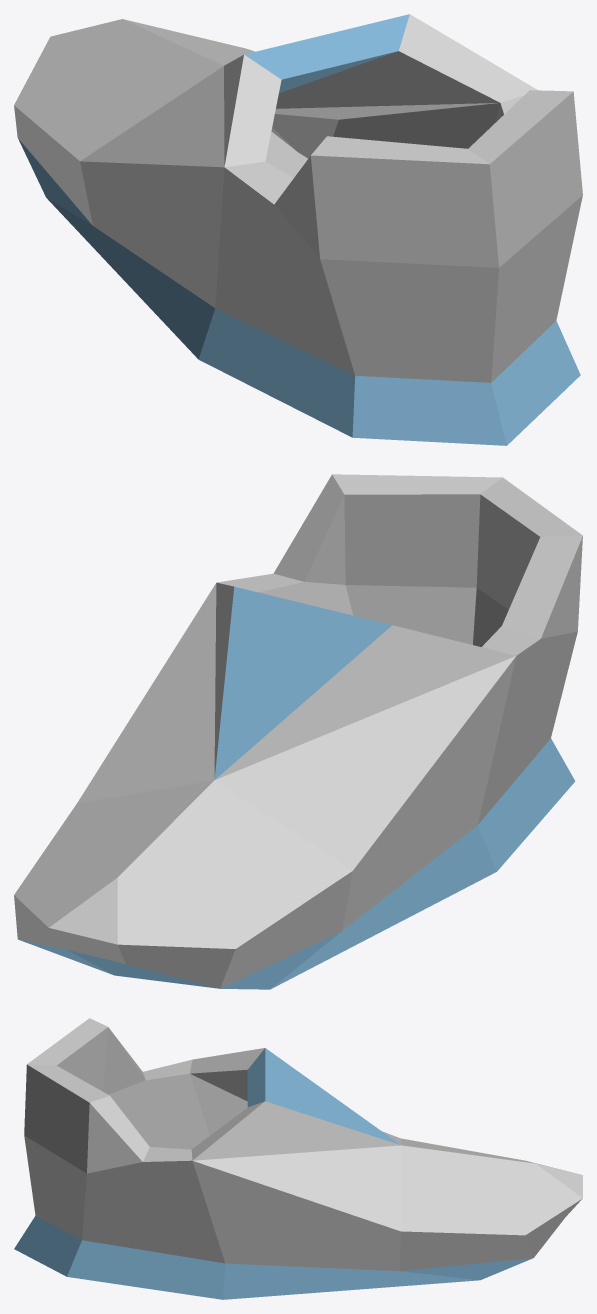
The model's file is runningshoe.fbx.
3 renders of one model, top to bottom at view 1: azimuth 30°, elevation 25°; view 2: azimuth 150°, elevation 25°; view 3: azimuth 270°, elevation 25°, orthographic. The views are drawn at different scales.
Visible parts, largest first — view 1: Running shoe; view 2: Running shoe; view 3: Running shoe.
Part boxes in pixels (x1=…): Running shoe: x1=14, y1=14, x2=582, y2=445; Running shoe: x1=14, y1=474, x2=582, y2=989; Running shoe: x1=14, y1=1018, x2=582, y2=1299.
Size of the model in its own units: 0.406 by 0.3423 by 0.9427.
